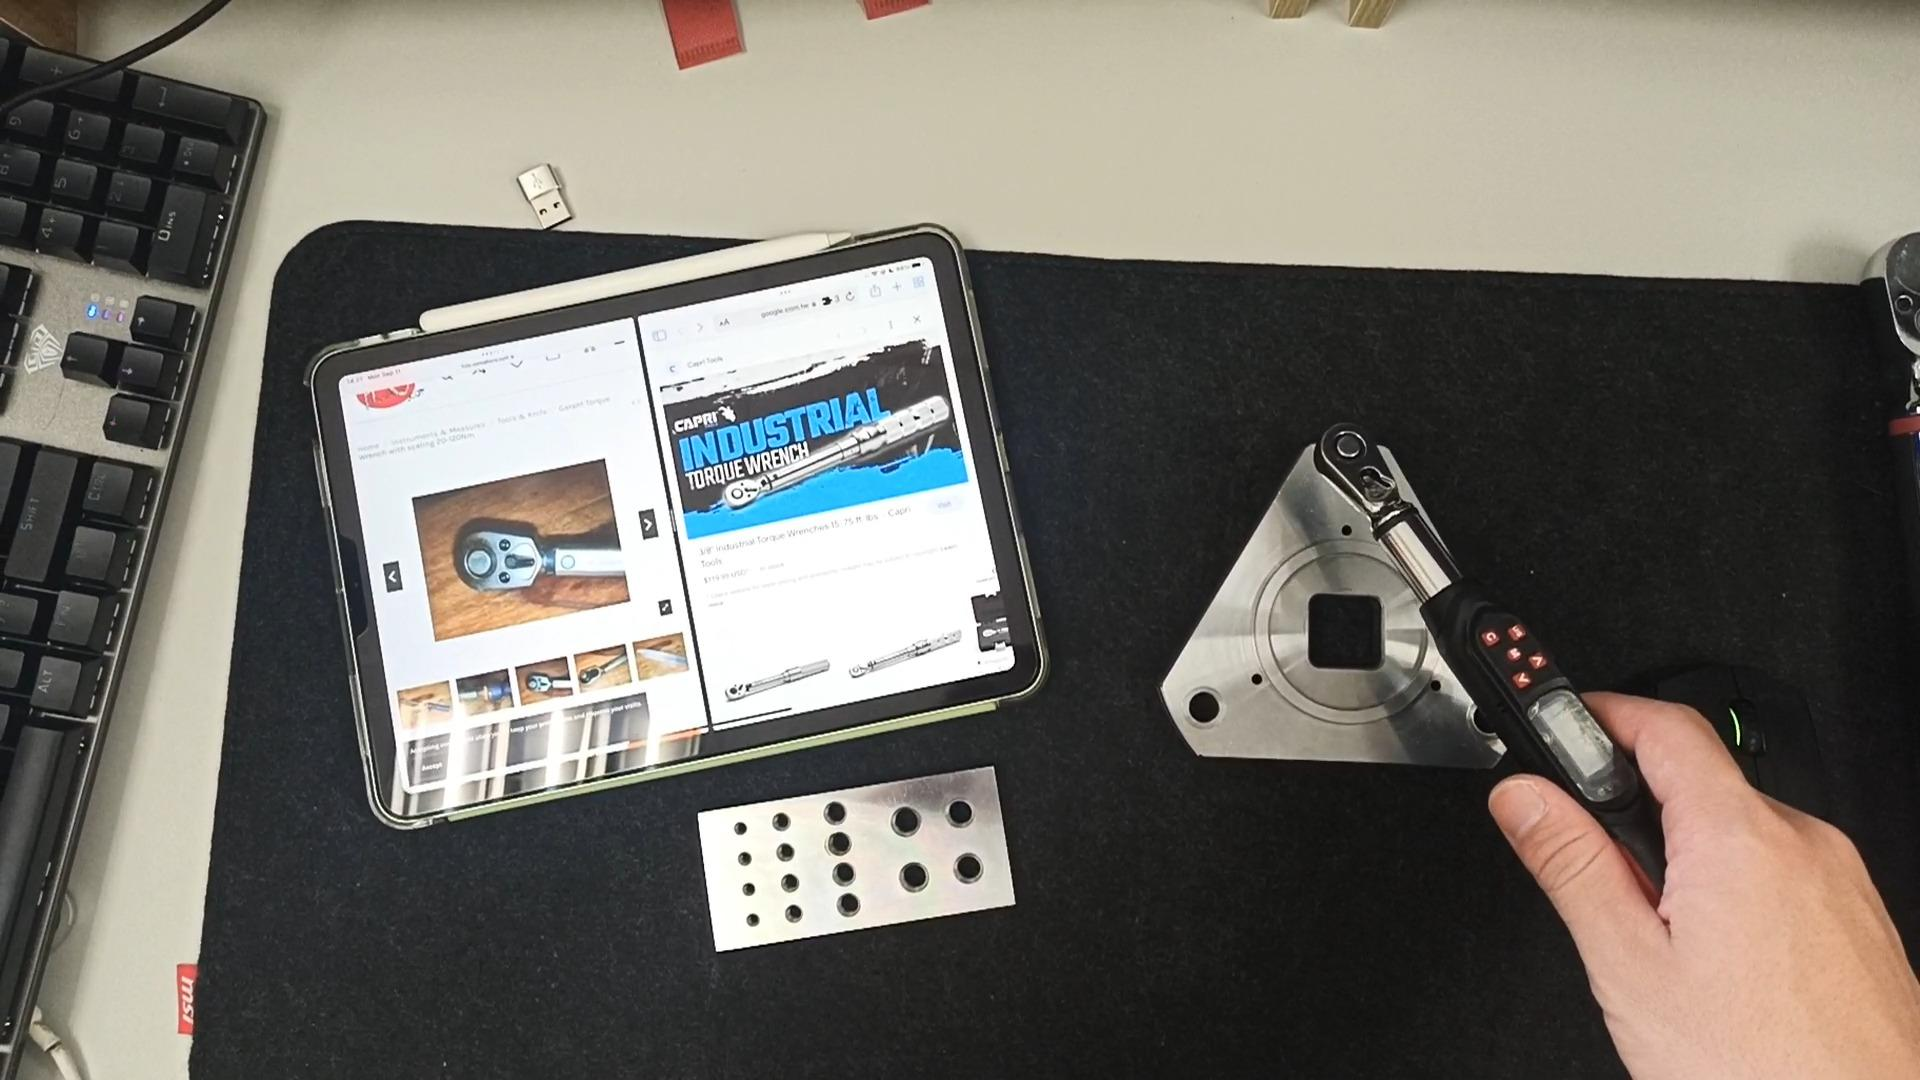Tool: (1852, 230, 1920, 423), (1317, 420, 1410, 528), (450, 517, 551, 602), (722, 472, 760, 518)
hole: (1171, 691, 1228, 734), (937, 849, 998, 889), (929, 797, 986, 832), (890, 858, 943, 894), (880, 804, 934, 837), (1467, 698, 1502, 747), (813, 832, 861, 860), (820, 861, 866, 889), (810, 800, 856, 827), (824, 896, 867, 922), (761, 810, 801, 833), (771, 873, 810, 895), (767, 843, 804, 864), (774, 907, 810, 926), (719, 817, 753, 836), (723, 851, 756, 870), (730, 879, 761, 898), (732, 913, 762, 930)
